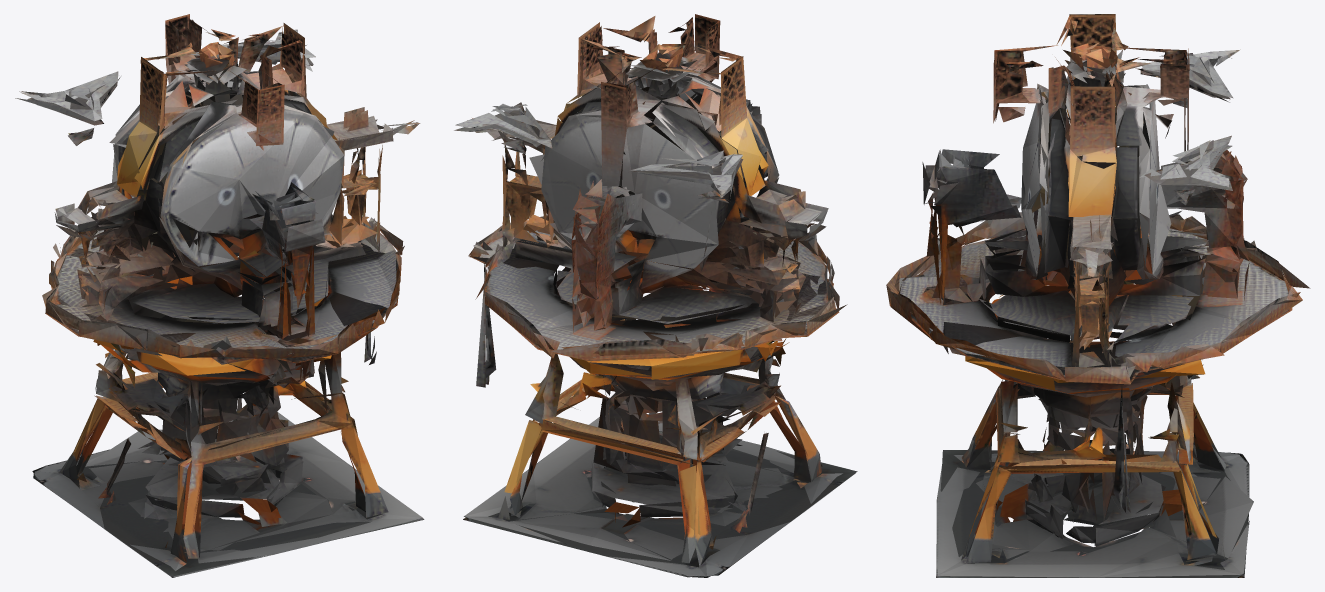
The model's file is radar_center_t1.fbx.
The picture shows the model from 3 angles, left to right: view 1: azimuth 30°, elevation 25°; view 2: azimuth 150°, elevation 25°; view 3: azimuth 270°, elevation 25°; orthographic projection. The views are drawn at different scales.
Visible parts, largest first — view 1: radar_center_t1; view 2: radar_center_t1; view 3: radar_center_t1.
Boxes of the visible parts, x1,y1,x2,y2 form: radar_center_t1: (15,14,424,577); radar_center_t1: (454,14,857,577); radar_center_t1: (886,14,1310,577).
Bounding box in the file's own units: 3.09 × 3.79 × 2.97.
Materials: 1 (1 with a texture image).
